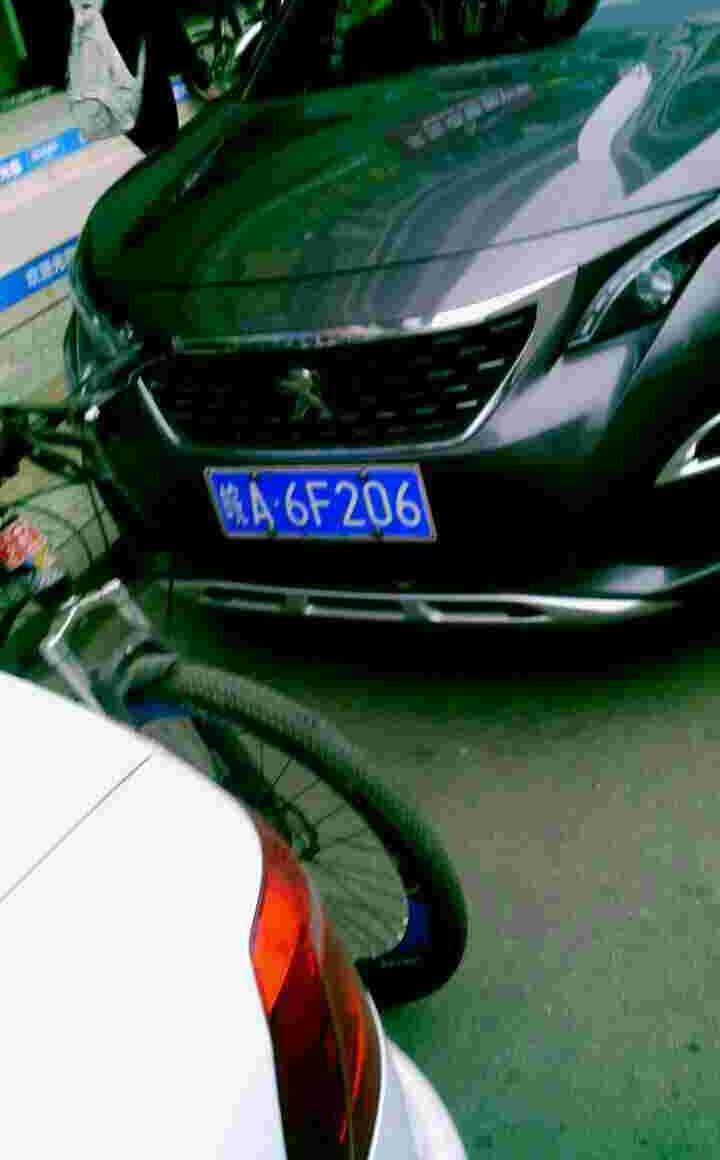license_plate: (205, 477, 424, 545)
